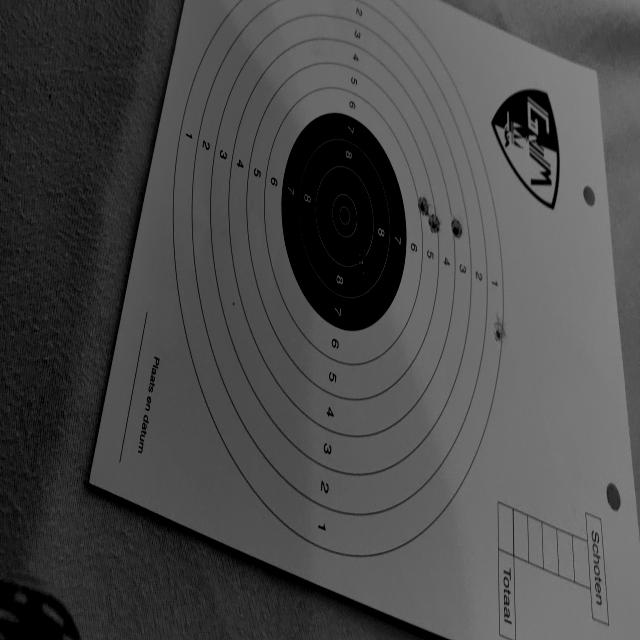1: (493, 312, 506, 346)
4: (451, 215, 465, 242)
5: (428, 210, 442, 238)
6: (417, 190, 429, 218)
9: (357, 244, 372, 278)
Target: (174, 0, 506, 564)
black_contour: (282, 111, 407, 332)
